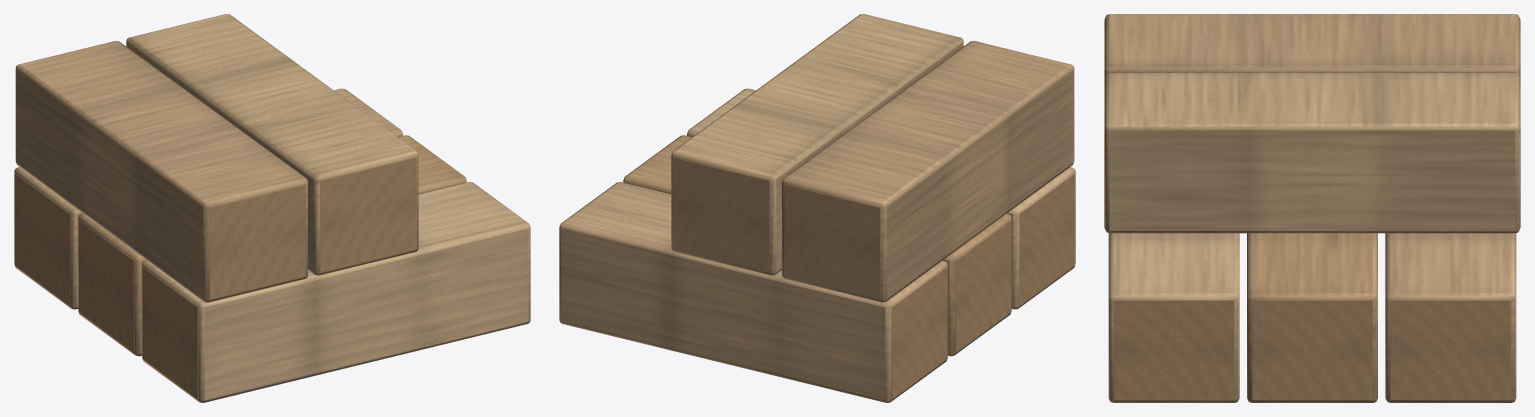
Rendered from 9-crossed-block-layers-4-1.fbx.
The picture shows the model from 3 angles, left to right: view 1: azimuth 30°, elevation 25°; view 2: azimuth 150°, elevation 25°; view 3: azimuth 270°, elevation 25°; orthographic projection. The views are drawn at different scales.
Parts seen in each view (by area): view 1: crossed-block-layers-4-1; view 2: crossed-block-layers-4-1; view 3: crossed-block-layers-4-1.
Part boxes in pixels (box(x1,y1,x2,y2)): crossed-block-layers-4-1: box(14, 14, 530, 402); crossed-block-layers-4-1: box(559, 14, 1075, 402); crossed-block-layers-4-1: box(1104, 14, 1520, 402).
Bounding box in the file's own units: 5515 × 3200 × 5515.
1 material, 1 textured.
